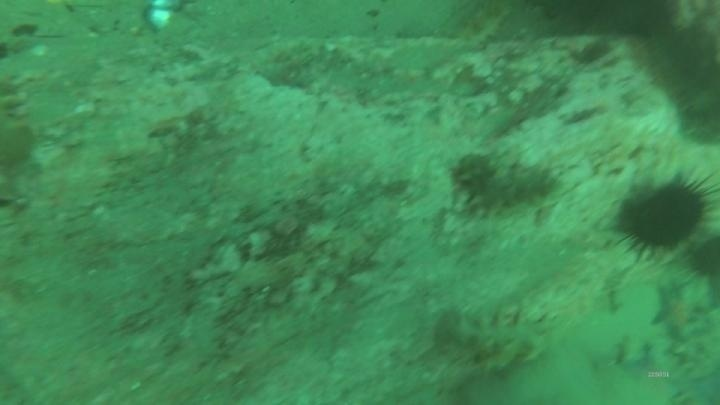echinus: (612, 168, 716, 261), (685, 231, 720, 285)
holothurian: (432, 305, 552, 375), (450, 150, 562, 219)
starfish: (648, 279, 702, 343)
